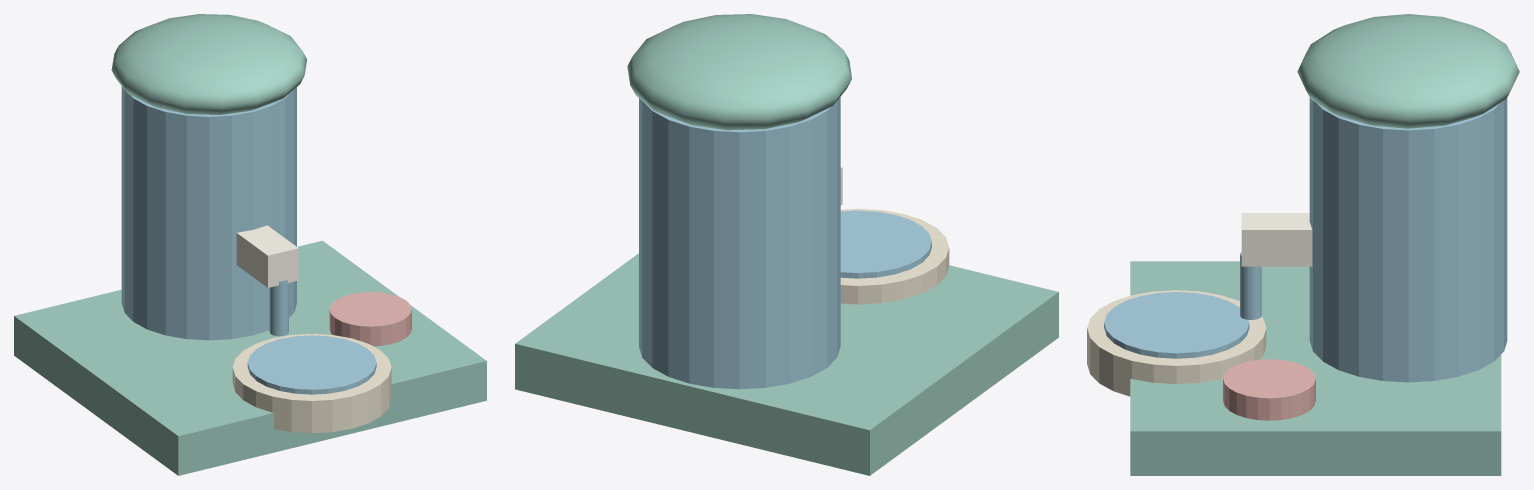
The model's file is water-dispenser.glb.
The picture shows the model from 3 angles, left to right: view 1: azimuth 30°, elevation 25°; view 2: azimuth 150°, elevation 25°; view 3: azimuth 270°, elevation 25°; orthographic projection. The views are drawn at different scales.
Visible parts, largest first — view 1: rounded station plinth, bowl contents, bowl rim, paw button.001, spout.001, water stream; view 2: rounded station plinth, bowl contents, bowl rim; view 3: rounded station plinth, bowl contents, bowl rim, paw button.001, spout.001, water stream.
Part boxes in pixels (x1,y1,x2,y2): rounded station plinth: (14,14,486,475); bowl contents: (121,86,376,394); bowl rim: (232,334,391,433); paw button.001: (329,292,411,346); spout.001: (236,225,298,287); water stream: (269,279,288,336); rounded station plinth: (515,14,1058,475); bowl contents: (639,97,931,389); bowl rim: (840,208,949,304); rounded station plinth: (1130,14,1519,475); bowl contents: (1104,97,1507,382); bowl rim: (1087,290,1266,396); paw button.001: (1223,359,1315,420); spout.001: (1241,213,1312,266); water stream: (1240,252,1261,319).
Bounding box in the file's own units: 1.3 × 1.26 × 1.4.
